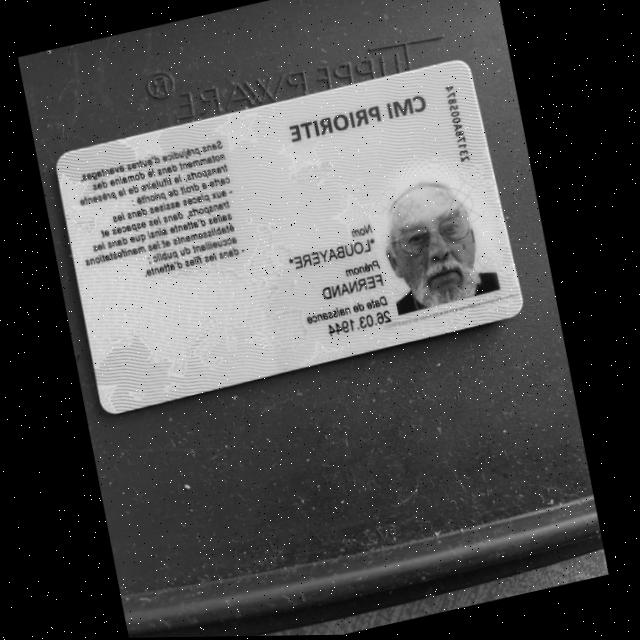card: (57, 61, 522, 412)
